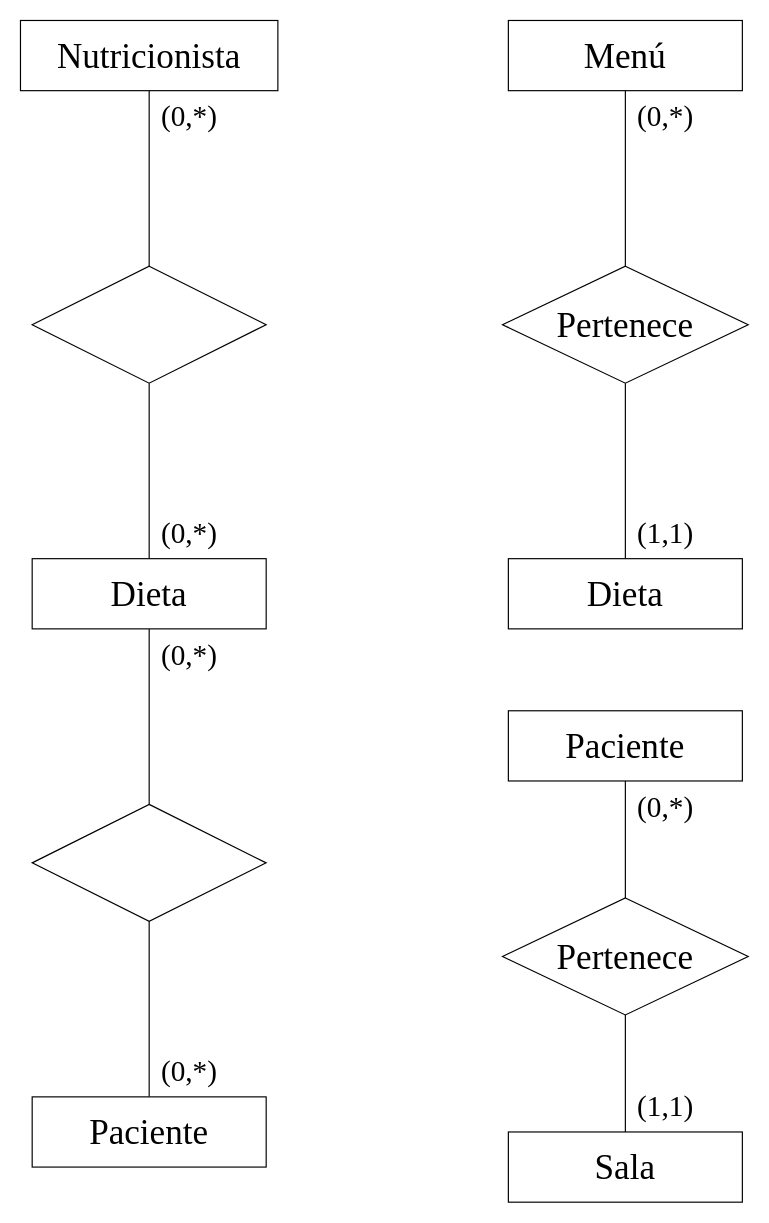
This 769x1223 diagram has some shape labels left out. Here are the shapes that lost their labels. From the top down, the centre of each, then its label:
(148,324): Autoriza
(148,862): Inscribe
